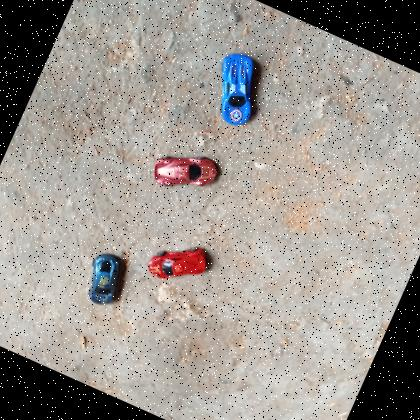Car: (198, 45, 275, 134), (146, 138, 224, 207), (144, 231, 214, 296), (74, 248, 132, 312)
